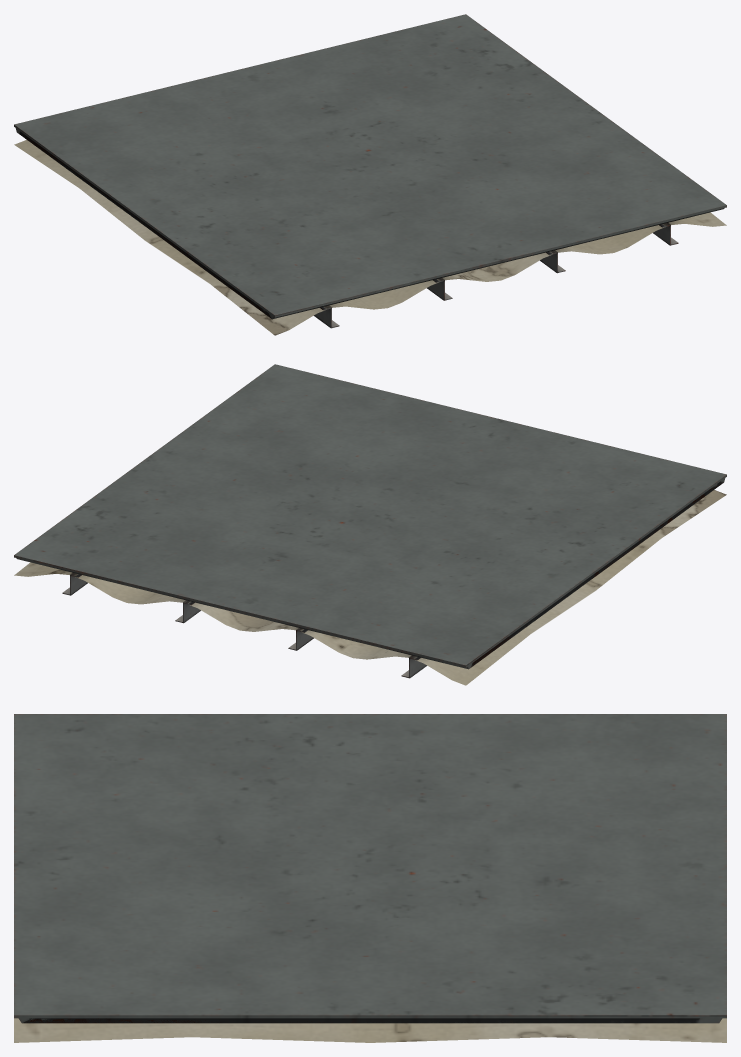
The model's file is roof_panel.fbx.
The picture shows the model from 3 angles, top to bottom: view 1: azimuth 30°, elevation 25°; view 2: azimuth 150°, elevation 25°; view 3: azimuth 270°, elevation 25°; orthographic projection. The views are drawn at different scales.
Parts seen in each view (by area): view 1: Body; view 2: Body; view 3: Body.
Boxes of the visible parts, <box> form: Body: <box>14,14,726,335</box>; Body: <box>14,364,726,685</box>; Body: <box>14,714,726,1042</box>.
Size of the model in its own units: 32 by 1.8 by 32.
1 material, 1 textured.
